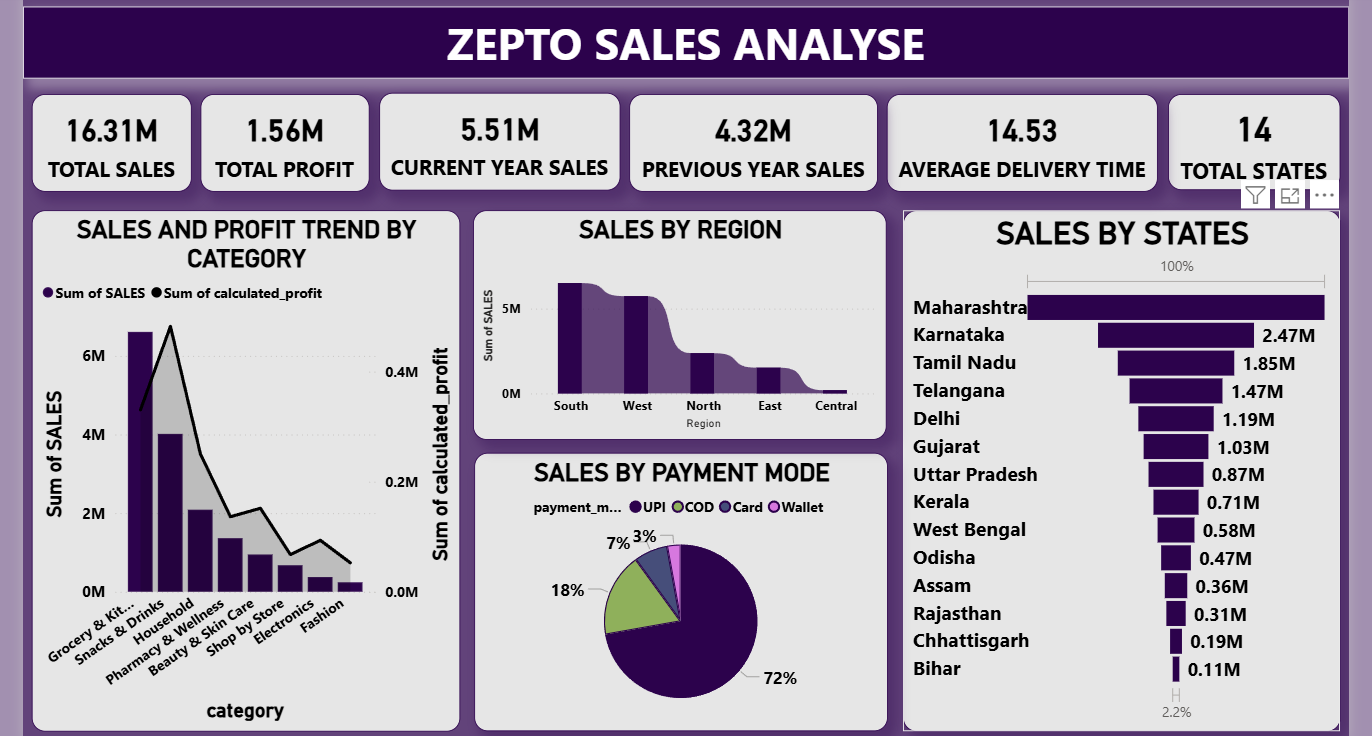

The page's visual inventory and layout, read from the dashboard file:
{"tool":"powerbi","page":{"name":"Page 1","canvas":[1280,720],"ordinal":0},"visuals":[{"type":"lineStackedColumnComboChart","title":"SALES AND PROFIT TREND BY CATEGORY","fields":{"Category":["Sheet1.category"],"Y":["Sum(Sheet1.SALES)"],"Y2":["Sum(Sheet1.calculated_profit)"]},"box":[8.8,208.8,413.2,502.9],"z":0},{"type":"textbox","box":[0,12.1,1280,70],"z":1000},{"type":"card","fields":{"Values":["Sheet1.TOTAL STATES"]},"box":[1105.1,96.5,166.5,92.9],"z":2000},{"type":"funnel","title":"SALES BY STATES","fields":{"Y":["Sum(Sheet1.SALES)"],"Category":["Sheet1.State 3"]},"box":[849.3,208.7,422.3,503.1],"z":3000},{"type":"pieChart","title":"SALES BY PAYMENT MODE","fields":{"Y":["Sum(Sheet1.SALES)"],"Category":["Sheet1.payment_mode"]},"box":[435.5,442.8,399.3,269],"z":4000},{"type":"card","title":"SALES BY STATES","fields":{"Values":["Sheet1.TOTAL SALES"]},"box":[8.4,96.5,154.4,94.1],"z":5000},{"type":"card","title":"SALES BY STATES","fields":{"Values":["Sheet1.TOTAL PROFIT"]},"box":[171.3,96.5,162.9,94.1],"z":6000},{"type":"card","title":"SALES BY STATES","fields":{"Values":["Sheet1.AVERAGE DELIVERY TIME"]},"box":[833.7,96.5,261.8,94.1],"z":7000},{"type":"card","title":"SALES BY STATES","fields":{"Values":["Sheet1.CURRENT YEAR SALES"]},"box":[343.8,95.3,232.8,94.1],"z":8000},{"type":"card","title":"SALES BY STATES","fields":{"Values":["Sheet1.PREVIOUS YEAR SALES"]},"box":[585.1,96.5,240.1,94.1],"z":9000},{"type":"ribbonChart","title":"SALES BY REGION","fields":{"Category":["Sheet1.Region "],"Y":["Sum(Sheet1.SALES)"]},"box":[434.3,208.7,399.3,222],"z":10000}]}

Visuals, with their boxes in screenshot pixels (x1, y1, x2, y2):
"SALES AND PROFIT TREND BY CATEGORY" lineStackedColumnComboChart: region(23, 208, 455, 733)
textbox: region(14, 2, 1352, 75)
card - Sheet1.TOTAL STATES: region(1169, 90, 1343, 187)
"SALES BY STATES" funnel: region(902, 207, 1343, 733)
"SALES BY PAYMENT MODE" pieChart: region(469, 452, 887, 733)
"SALES BY STATES" card: region(23, 90, 184, 188)
"SALES BY STATES" card: region(193, 90, 364, 188)
"SALES BY STATES" card: region(886, 90, 1159, 188)
"SALES BY STATES" card: region(374, 89, 617, 187)
"SALES BY STATES" card: region(626, 90, 877, 188)
"SALES BY REGION" ribbonChart: region(468, 207, 886, 439)
